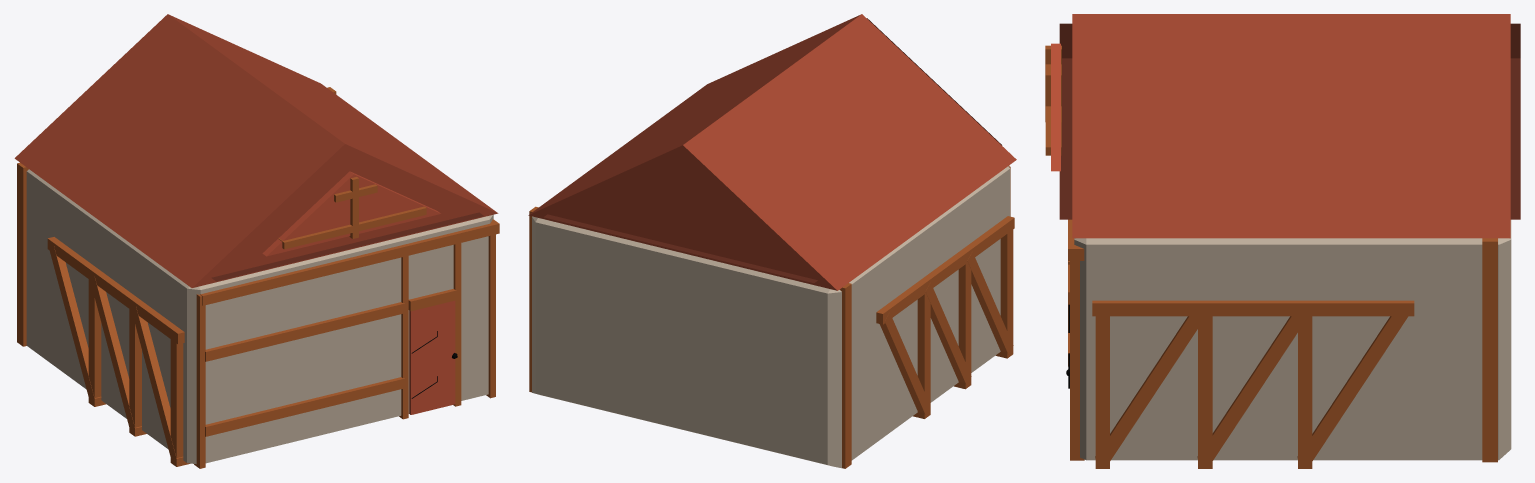
File: MedievalHouse3.fbx
3 views of the same model, side by side, from view 1: azimuth 30°, elevation 25°; view 2: azimuth 150°, elevation 25°; view 3: azimuth 270°, elevation 25° (orthographic). The views are drawn at different scales.
Parts seen in each view (by area): view 1: Cube; view 2: Cube; view 3: Cube.
Boxes of the visible parts, left/top/right/bottom form: Cube: left=14, top=14, right=499, bottom=468; Cube: left=528, top=14, right=1016, bottom=468; Cube: left=1045, top=14, right=1520, bottom=468.
Bounding box in the file's own units: 621 × 545 × 652.
